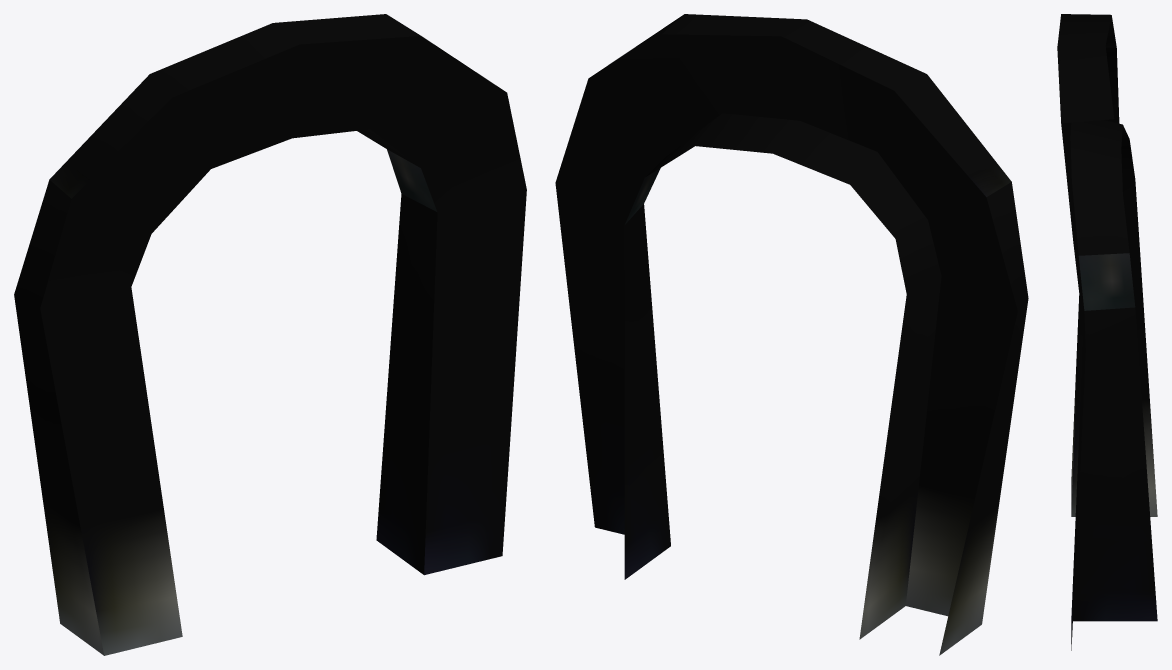
The model's file is arch.fbx.
3 renders of one model, left to right at view 1: azimuth 30°, elevation 25°; view 2: azimuth 150°, elevation 25°; view 3: azimuth 270°, elevation 25°, orthographic. The views are drawn at different scales.
Visible parts, largest first — view 1: arch3D_mesh; view 2: arch3D_mesh; view 3: arch3D_mesh.
Part boxes in pixels (x1,y1,x2,y2): arch3D_mesh: (14,14,526,655); arch3D_mesh: (555,14,1028,655); arch3D_mesh: (1057,14,1157,650).
Bounding box in the file's own units: 3.9 × 4.32 × 0.7561.
